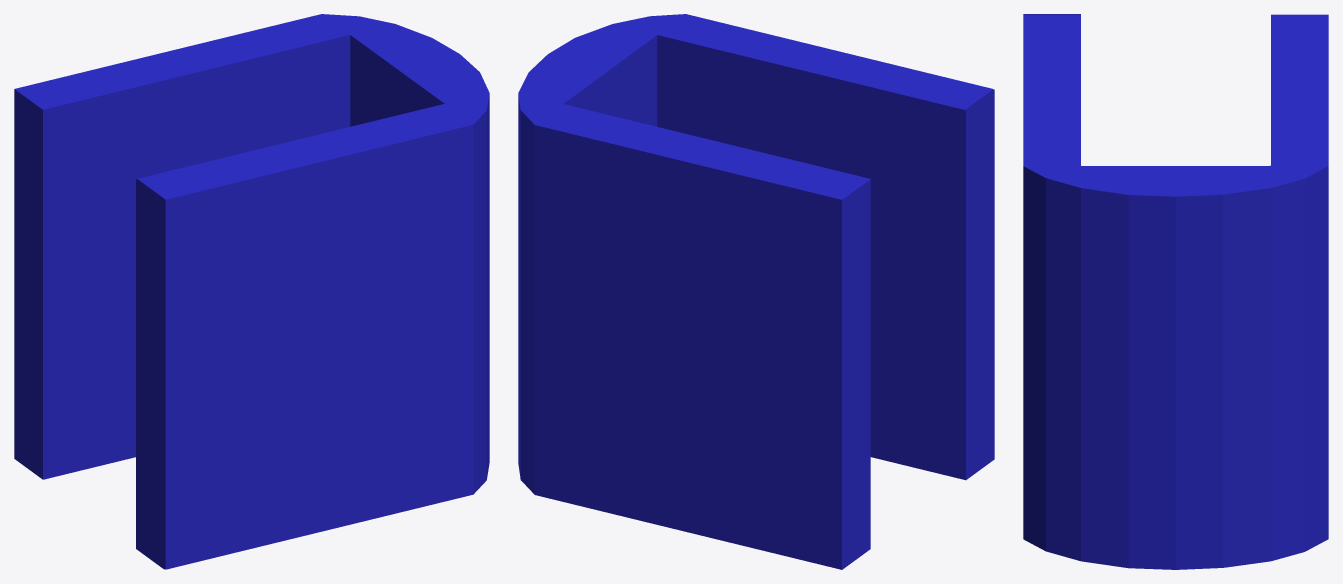
Rendered from wall_close.glb.
The picture shows the model from 3 angles, left to right: view 1: azimuth 30°, elevation 25°; view 2: azimuth 150°, elevation 25°; view 3: azimuth 270°, elevation 25°; orthographic projection.
Parts seen in each view (by area): view 1: wall_close; view 2: wall_close; view 3: wall_close.
Part boxes in pixels (x1,y1,x2,y2): wall_close: (14, 14, 489, 569); wall_close: (518, 14, 994, 569); wall_close: (1023, 14, 1328, 569).
Size of the model in its own units: 2.1 by 2 by 1.48.
